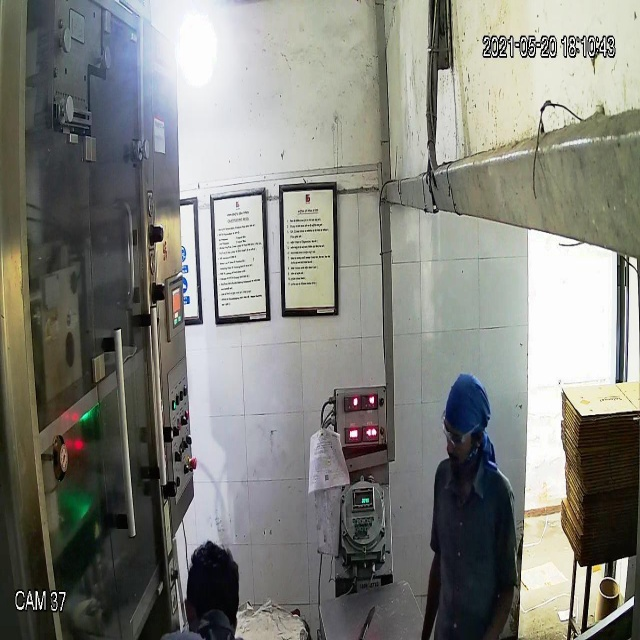Gafas: (441, 410, 482, 445)
